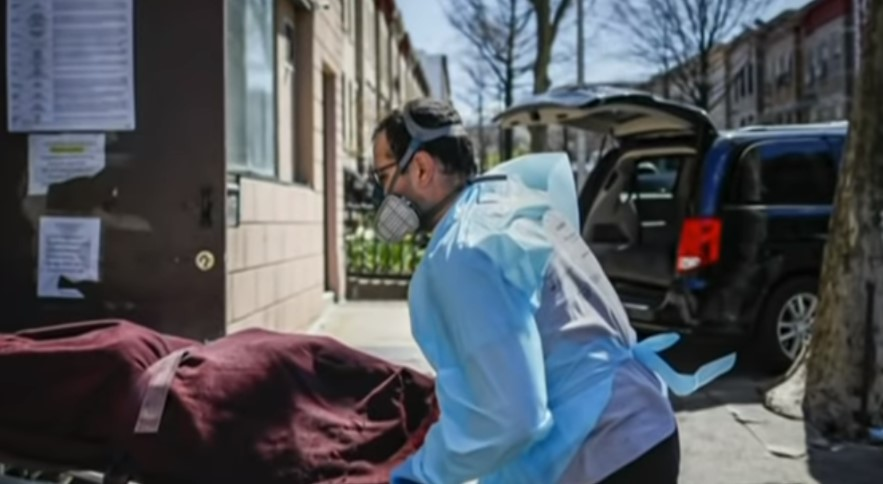face_with_mask: (360, 97, 473, 243)
